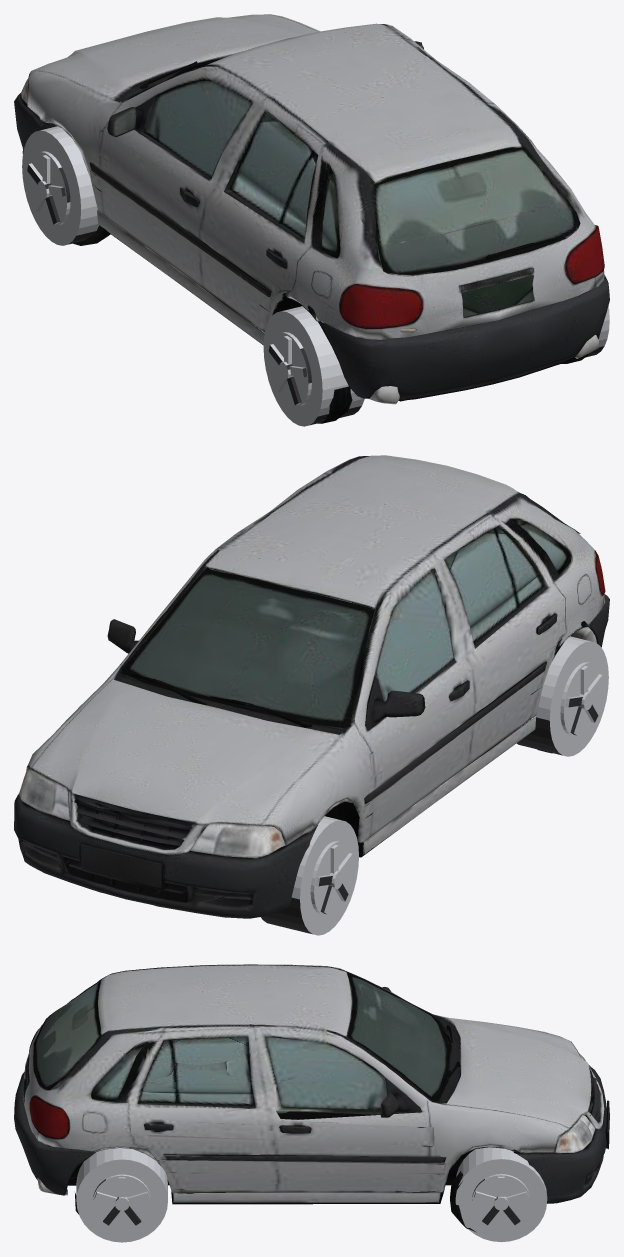
File: carro-compacto.glb
3 renders of one model, top to bottom at view 1: azimuth 30°, elevation 25°; view 2: azimuth 150°, elevation 25°; view 3: azimuth 270°, elevation 25°, orthographic. The views are drawn at different scales.
Parts seen in each view (by area): view 1: Corpo, Roda_RL, Roda_FL; view 2: Corpo, Roda_RL, Roda_FL; view 3: Corpo, Roda_RR, Roda_FR.
Boxes of the visible parts, <box> form: Corpo: <box>14,14,609,423</box>; Roda_RL: <box>263,306,364,426</box>; Roda_FL: <box>22,126,98,245</box>; Corpo: <box>14,455,609,918</box>; Roda_RL: <box>516,636,608,756</box>; Roda_FL: <box>261,816,358,935</box>; Corpo: <box>14,964,609,1232</box>; Roda_RR: <box>76,1148,167,1242</box>; Roda_FR: <box>455,1147,547,1242</box>.
Size of the model in its own units: 1.84 by 1.42 by 3.9.
Materials: 3 (1 with a texture image).
